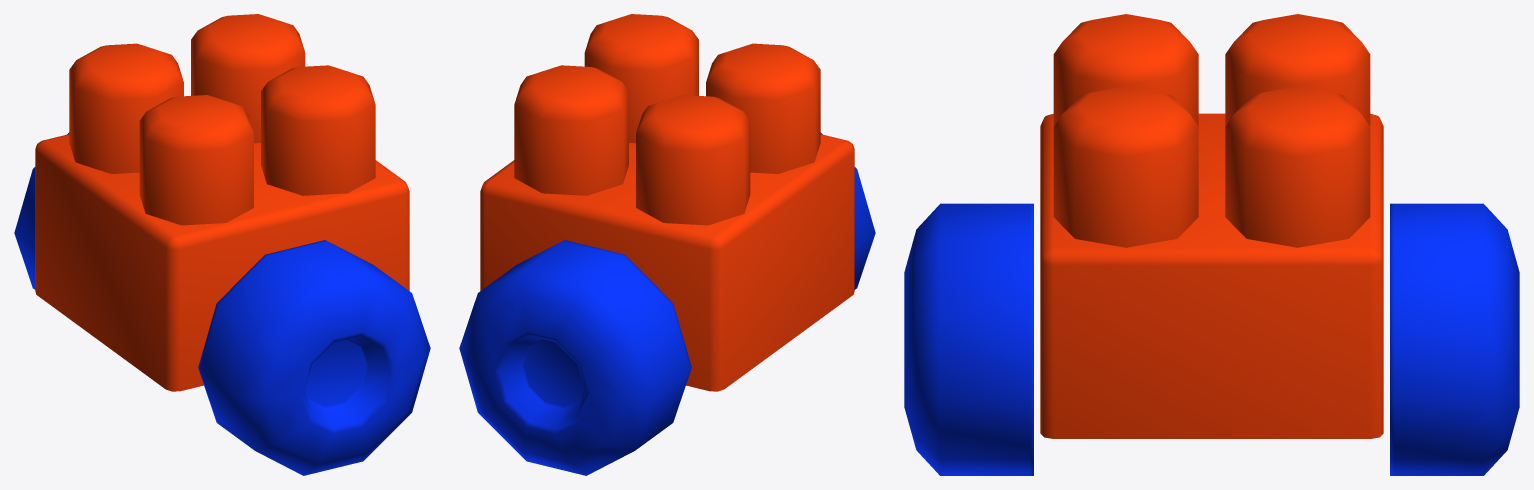
Rendered from plastic_block_2x2+wheel_01.FBX.
The picture shows the model from 3 angles, left to right: view 1: azimuth 30°, elevation 25°; view 2: azimuth 150°, elevation 25°; view 3: azimuth 270°, elevation 25°; orthographic projection. The views are drawn at different scales.
Visible parts, largest first — view 1: plastic_block_2x2, plastic_block_2x2+wheel; view 2: plastic_block_2x2, plastic_block_2x2+wheel; view 3: plastic_block_2x2, plastic_block_2x2+wheel.
Part boxes in pixels (x1,y1,x2,y2): plastic_block_2x2: [35, 14, 409, 391]; plastic_block_2x2+wheel: [14, 132, 430, 475]; plastic_block_2x2: [480, 14, 854, 391]; plastic_block_2x2+wheel: [459, 132, 875, 475]; plastic_block_2x2: [1040, 14, 1383, 438]; plastic_block_2x2+wheel: [904, 203, 1519, 475].
Size of the model in its own units: 3 by 3.74 by 5.38.
